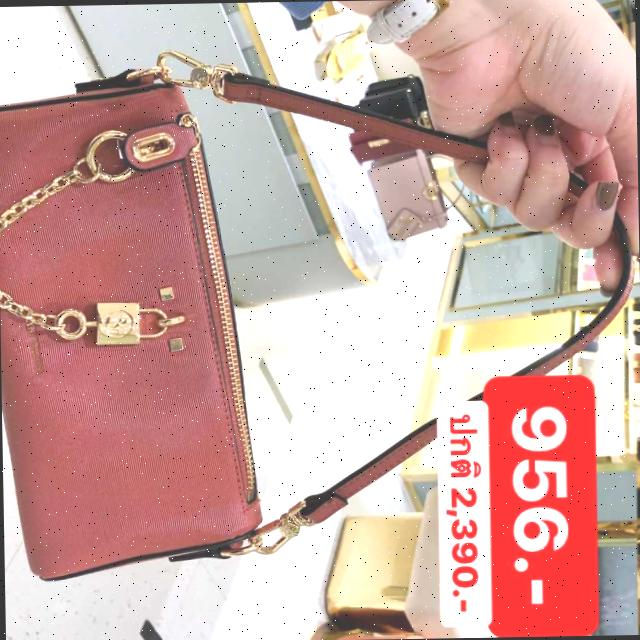Handbag: (0, 41, 306, 574)
